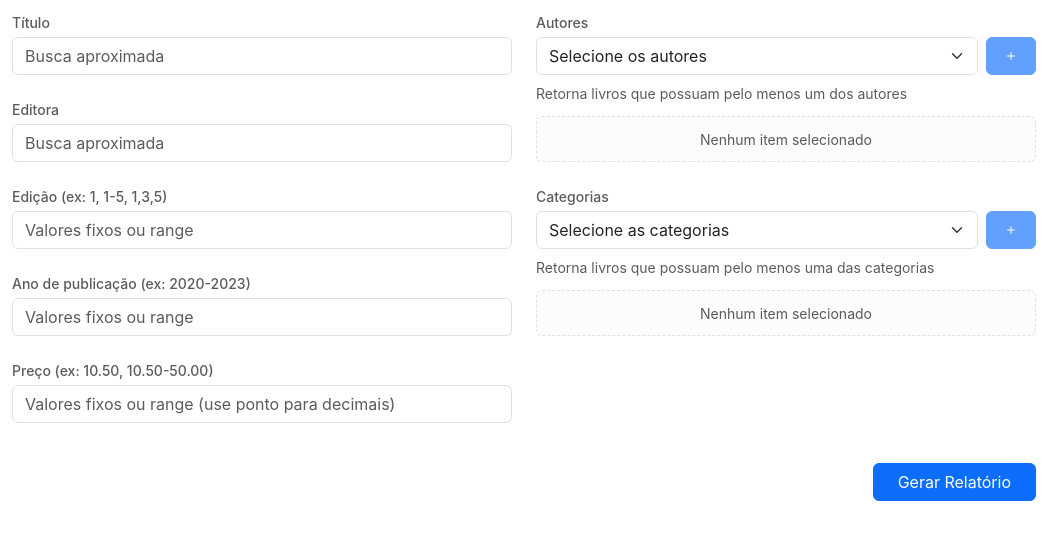
Test: BookReportForm › should validate range inputs format
Type "5-1" into the field labelled "Edição (ex: 1, 1-5, 1,3,5)". click: (262, 230)
box: x1=12 y1=211 x2=512 y2=249
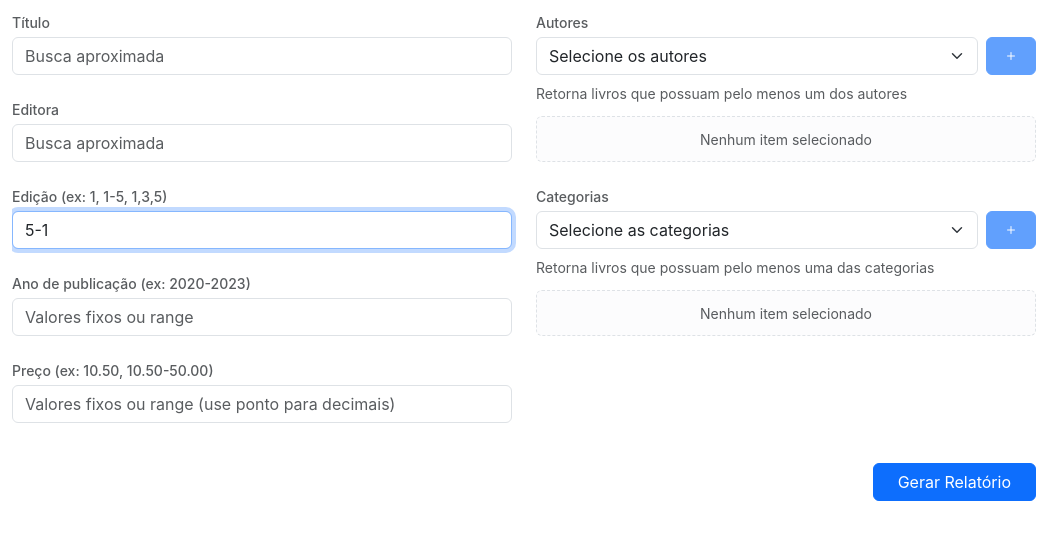
Click the button "Gerar Relatório". click: (954, 482)
box: x1=873 y1=463 x2=1036 y2=501
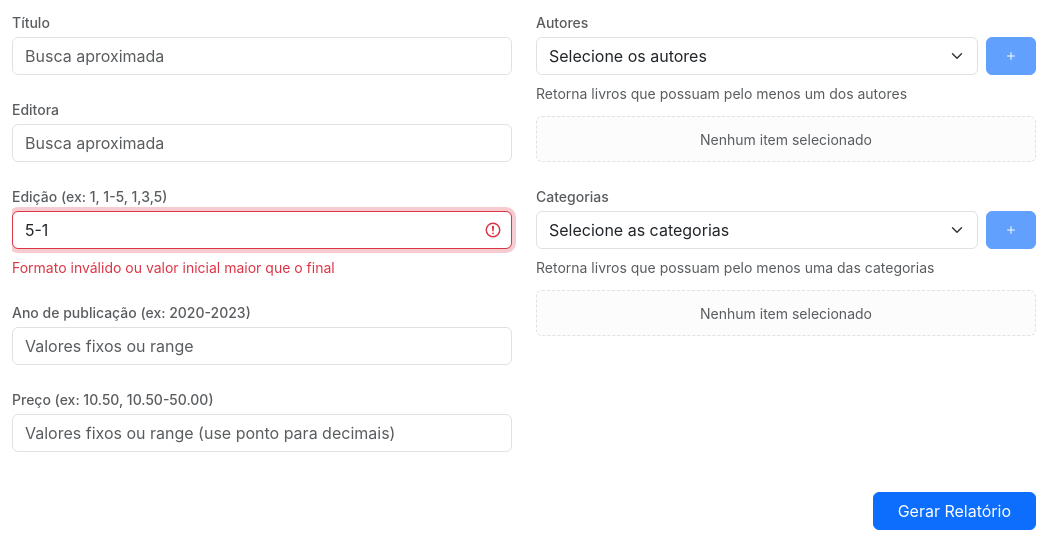
Now the text "Formato inválido ou valor inicial maior que o final" is shown, box x1=12 y1=259 x2=335 y2=276
